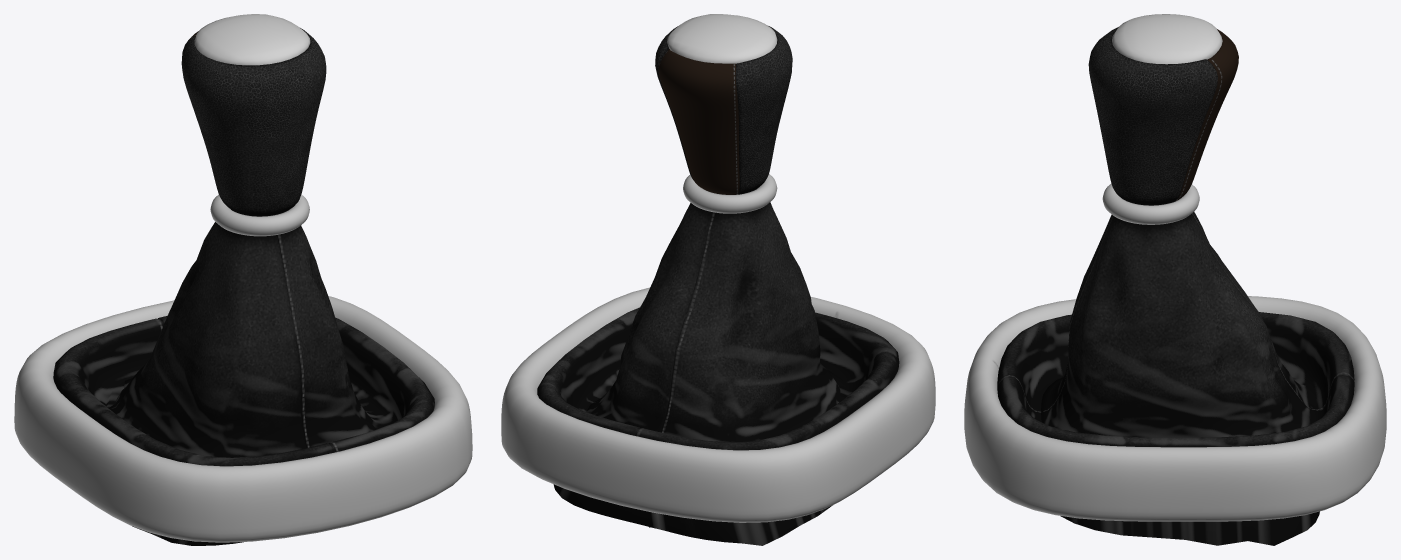
File: Gear.fbx
The picture shows the model from 3 angles, left to right: view 1: azimuth 30°, elevation 25°; view 2: azimuth 150°, elevation 25°; view 3: azimuth 270°, elevation 25°; orthographic projection. The views are drawn at different scales.
Visible parts, largest first — view 1: gear 1.001, top.001, gear 1; view 2: gear 1.001, top.001, gear 1; view 3: gear 1.001, top.001, gear 1.
Boxes of the visible parts, bbox=[...] form: gear 1.001: bbox=[108, 14, 384, 545]; top.001: bbox=[14, 296, 472, 542]; gear 1: bbox=[53, 316, 434, 466]; gear 1.001: bbox=[553, 14, 847, 545]; top.001: bbox=[501, 287, 935, 522]; gear 1: bbox=[537, 307, 899, 450]; gear 1.001: bbox=[1041, 14, 1319, 545]; top.001: bbox=[964, 296, 1386, 521]; gear 1: bbox=[997, 312, 1354, 447].
Size of the model in its own units: 471 by 601 by 498.
